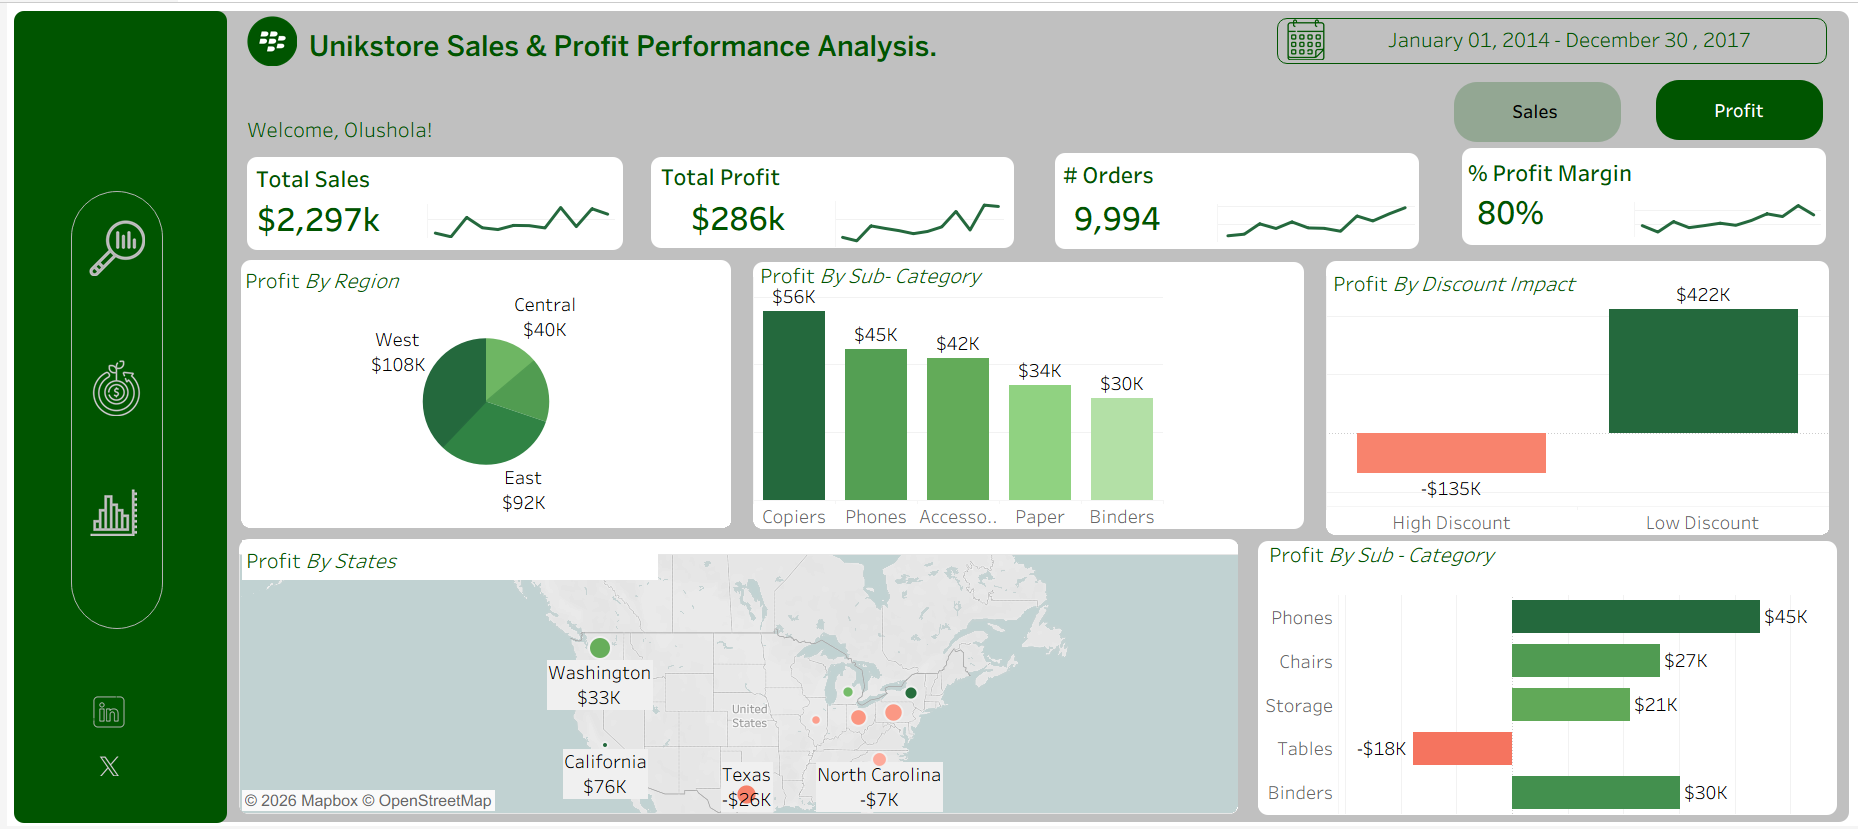

The page's visual inventory and layout, read from the dashboard file:
{"tool":"tableau","page":{"name":"Dashboard (Profit)","canvas":[1000,1000],"units":"permille","ordinal":0},"visuals":[{"type":"blank","box":[3.8,9.7,115,985.4]},{"type":"blank","box":[4.4,9.7,989.8,984.2]},{"type":"text","box":[161.1,12.1,449.2,82.5]},{"type":"image","param":"Image/blackberry.png","box":[129.5,15.8,41.7,60.7]},{"type":"blank","box":[685.4,18.2,296.9,55.8]},{"type":"image","param":"Image/calendar (3).png","box":[689.8,19.4,48,49.8]},{"type":"text","box":[716.4,25.5,254,36.4]},{"type":"blank","box":[890.1,93.5,90.3,72.8]},{"type":"blank","box":[780.8,95.9,90.3,72.8]},{"type":"text","box":[902.7,111.7,63.8,36.4]},{"type":"text","box":[792.8,112.9,63.8,36.4]},{"type":"text","box":[127.6,134.7,122.5,36.4]},{"type":"blank","box":[785.2,176,196.5,117.7]},{"type":"blank","box":[565.4,182,196.5,116.5]},{"type":"text","box":[786.5,185.7,110.5,38.8]},{"type":"blank","box":[129.5,186.9,202.8,112.9]},{"type":"blank","box":[347.4,186.9,195.8,110.4]},{"type":"text","box":[567.9,188.1,110.5,38.8]},{"type":"text","box":[350.6,190.5,110.5,38.8]},{"type":"text","box":[132,193,110.5,38.8]},{"type":"worksheet","title":"2015","mark":"Automatic","rows":["Sales"],"cols":["Order Date"],"box":[446.6,222.1,91.6,74]},{"type":"worksheet","title":"2017","mark":"Automatic","rows":["Sales"],"cols":["Order Date"],"box":[878.1,223.3,101.1,60.7]},{"type":"worksheet","title":"2014","mark":"Automatic","rows":["Sales"],"cols":["Order Date"],"box":[226.8,225.7,101.7,59.5]},{"type":"worksheet","title":"2016","mark":"Automatic","rows":["Sales"],"cols":["Order Date"],"box":[653.2,225.7,106.8,64.3]},{"type":"text","box":[790.9,225.7,83.4,53.4]},{"type":"blank","box":[34.7,228.2,49.9,531.5]},{"type":"text","box":[367,233,83.4,53.4]},{"type":"text","box":[573.6,233,82.8,53.4]},{"type":"text","box":[132.7,234.2,83.4,53.4]},{"type":"image","param":"Image/analytics.png","box":[44.2,263.4,30.3,82.5]},{"type":"text","box":[404.3,305.8,224.3,48.5]},{"type":"worksheet","title":"Profit By Region","mark":"Pie","box":[126.3,311.9,264.7,325.2]},{"type":"text","box":[126.3,311.9,224.3,48.5]},{"type":"worksheet","title":"Profit by Discount Impact","mark":"Automatic","rows":["Profit"],"cols":["Calculation_0981045764308994"],"box":[711.9,313.1,271.6,332.5]},{"type":"worksheet","title":"Profit By Sub-Category","mark":"Automatic","rows":["Profit"],"cols":["Sub-Category"],"box":[402.4,314.3,297.5,324]},{"type":"text","box":[713.2,315.5,224.3,48.5]},{"type":"image","param":"Image/green-economy.png","box":[43.6,433.2,30.3,86.2]},{"type":"image","param":"Image/graph.png","box":[44.9,589.8,25.3,92.2]},{"type":"text","box":[679.1,644.4,224.3,48.5]},{"type":"worksheet","title":"States Performance","mark":"Automatic","box":[125.1,650.5,539.5,333.7]},{"type":"text","box":[127,651.7,224.3,48.5]},{"type":"blank","box":[675.3,652.9,312.7,332.5]},{"type":"worksheet","title":"Profit By Sub- Category","mark":"Automatic","rows":["Sub-Category"],"cols":["Profit"],"box":[675.3,700.2,311.4,284]},{"type":"image","param":"Image/linkedin.png","box":[45.5,838.6,18.9,65.5]},{"type":"image","param":"Image/twitter.png","box":[49.9,913.8,10.7,60.7]}]}

Visuals, with their boxes on the dashboard's canvas, which has no fixed pixel size, in thousandths of its width and height (x1, y1, x2, y2). These are canvas units, not pixel positions in the 1858x829 screenshot, which may show the page scaled, cropped or inside an application window:
blank: left=4, top=10, right=119, bottom=995
blank: left=4, top=10, right=994, bottom=994
text: left=161, top=12, right=610, bottom=95
image: left=130, top=16, right=171, bottom=76
blank: left=685, top=18, right=982, bottom=74
image: left=690, top=19, right=738, bottom=69
text: left=716, top=26, right=970, bottom=62
blank: left=890, top=94, right=980, bottom=166
blank: left=781, top=96, right=871, bottom=169
text: left=903, top=112, right=966, bottom=148
text: left=793, top=113, right=857, bottom=149
text: left=128, top=135, right=250, bottom=171
blank: left=785, top=176, right=982, bottom=294
blank: left=565, top=182, right=762, bottom=298
text: left=786, top=186, right=897, bottom=224
blank: left=130, top=187, right=332, bottom=300
blank: left=347, top=187, right=543, bottom=297
text: left=568, top=188, right=678, bottom=227
text: left=351, top=190, right=461, bottom=229
text: left=132, top=193, right=242, bottom=232
"2015" worksheet: left=447, top=222, right=538, bottom=296
"2017" worksheet: left=878, top=223, right=979, bottom=284
"2014" worksheet: left=227, top=226, right=328, bottom=285
"2016" worksheet: left=653, top=226, right=760, bottom=290
text: left=791, top=226, right=874, bottom=279
blank: left=35, top=228, right=85, bottom=760
text: left=367, top=233, right=450, bottom=286
text: left=574, top=233, right=656, bottom=286
text: left=133, top=234, right=216, bottom=288
image: left=44, top=263, right=74, bottom=346
text: left=404, top=306, right=629, bottom=354
"Profit By Region" worksheet (Pie marks): left=126, top=312, right=391, bottom=637
text: left=126, top=312, right=351, bottom=360
"Profit by Discount Impact" worksheet: left=712, top=313, right=984, bottom=646
"Profit By Sub-Category" worksheet: left=402, top=314, right=700, bottom=638
text: left=713, top=316, right=938, bottom=364
image: left=44, top=433, right=74, bottom=519
image: left=45, top=590, right=70, bottom=682
text: left=679, top=644, right=903, bottom=693
"States Performance" worksheet: left=125, top=650, right=665, bottom=984
text: left=127, top=652, right=351, bottom=700
blank: left=675, top=653, right=988, bottom=985
"Profit By Sub- Category" worksheet: left=675, top=700, right=987, bottom=984
image: left=46, top=839, right=64, bottom=904
image: left=50, top=914, right=61, bottom=974
